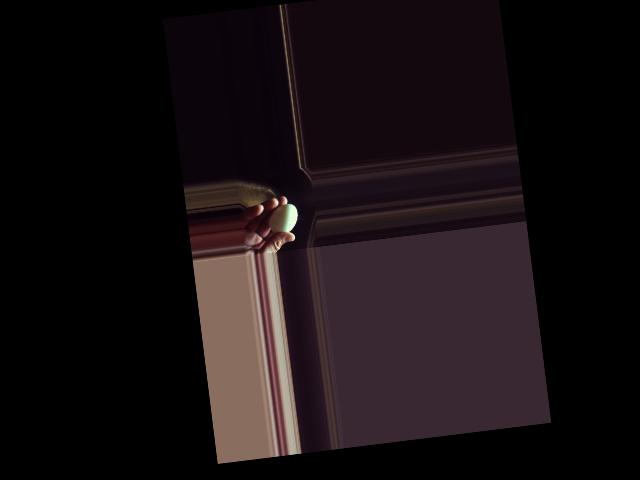egg: (266, 203, 299, 234)
